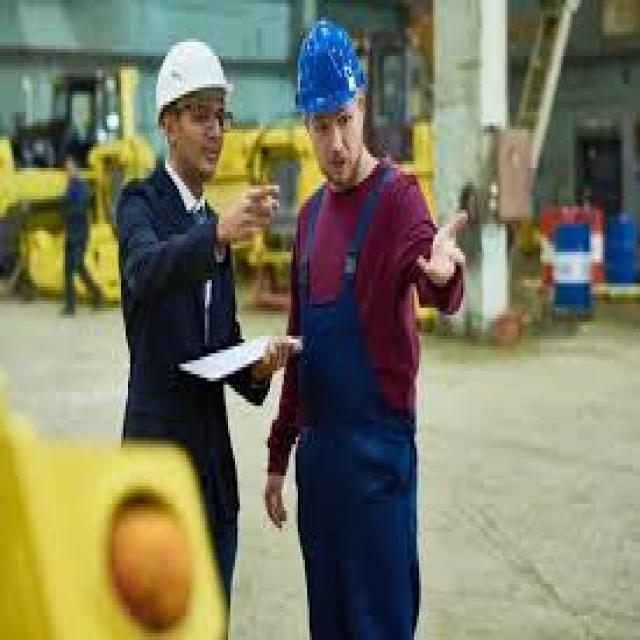Safety-Helmet: (282, 14, 379, 129), (146, 28, 240, 126)
